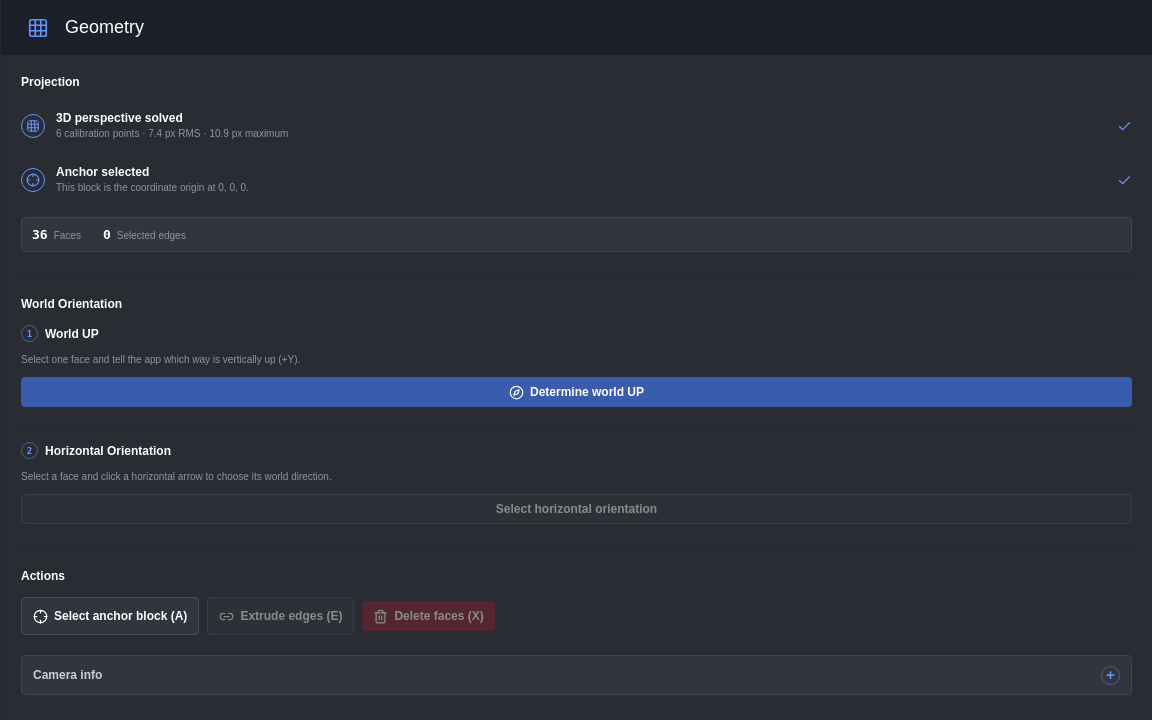
Test: geometry deletion › determines UP first and exposes optional horizontal confirmation
Click the button "Determine world UP".
click(576, 392)  # box [21,377,1132,407]
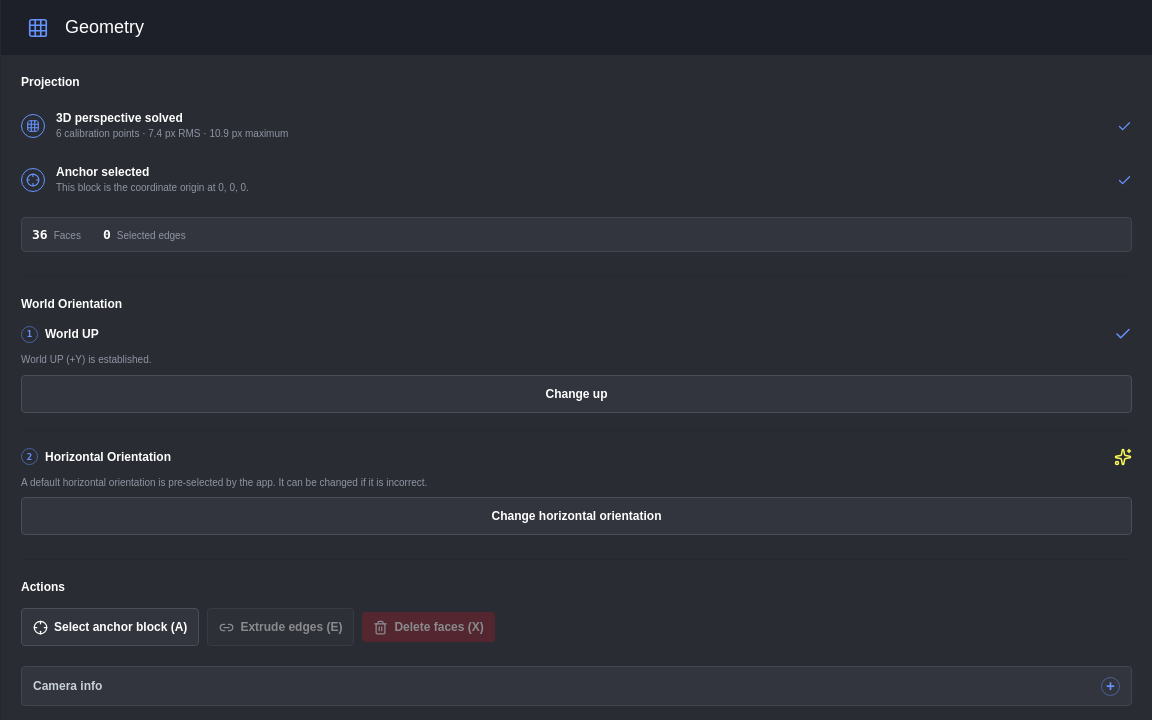
Expected: the icon named "World UP established" is shown, [1114,325,1132,343]
Expected: the button "Change horizontal orientation" is shown, [21,497,1132,535]
